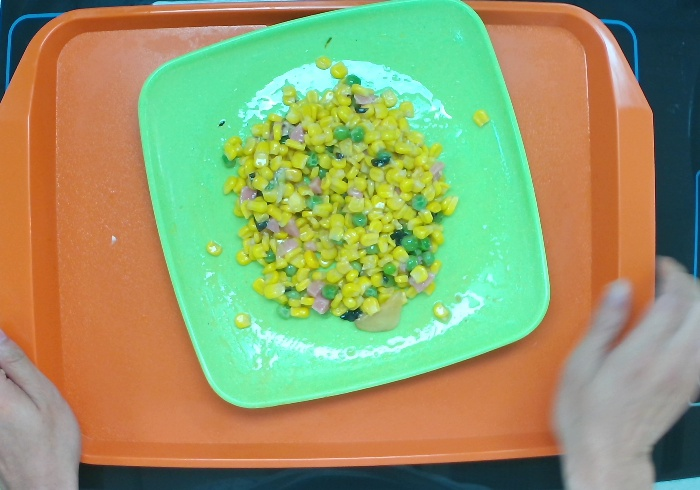ZNLD-Lv_Fang_Pan: (133, 1, 558, 408)
